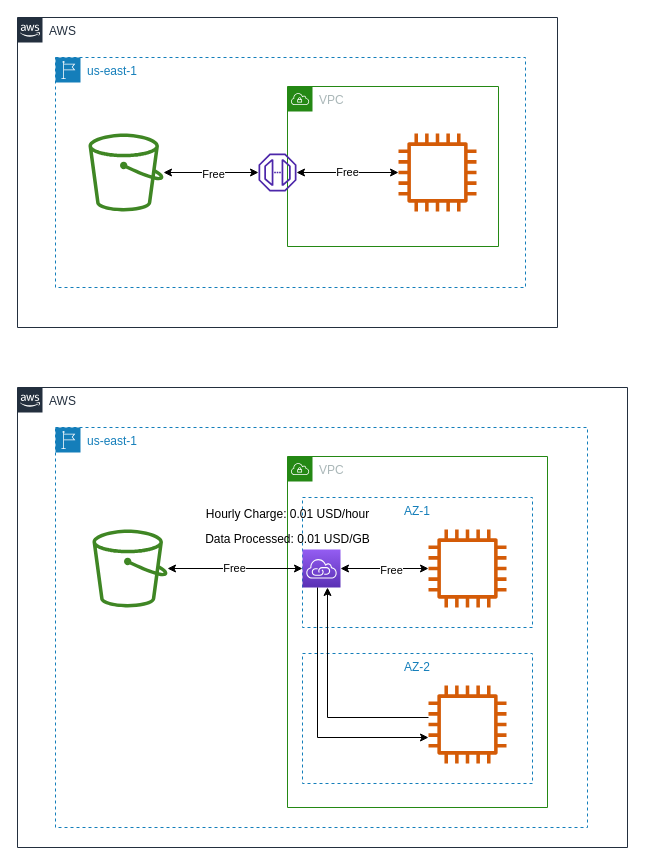
This 645x865 diagram has some shape labels left out. The centre of each missing label's shape, as x and y in pixels:
"Gateway Endpoint" belongs at (x=277, y=172).
"Instance-1" belongs at (x=467, y=568).
"instance-2" belongs at (x=467, y=724).
"Interface Endpoint" belongs at (x=321, y=568).
